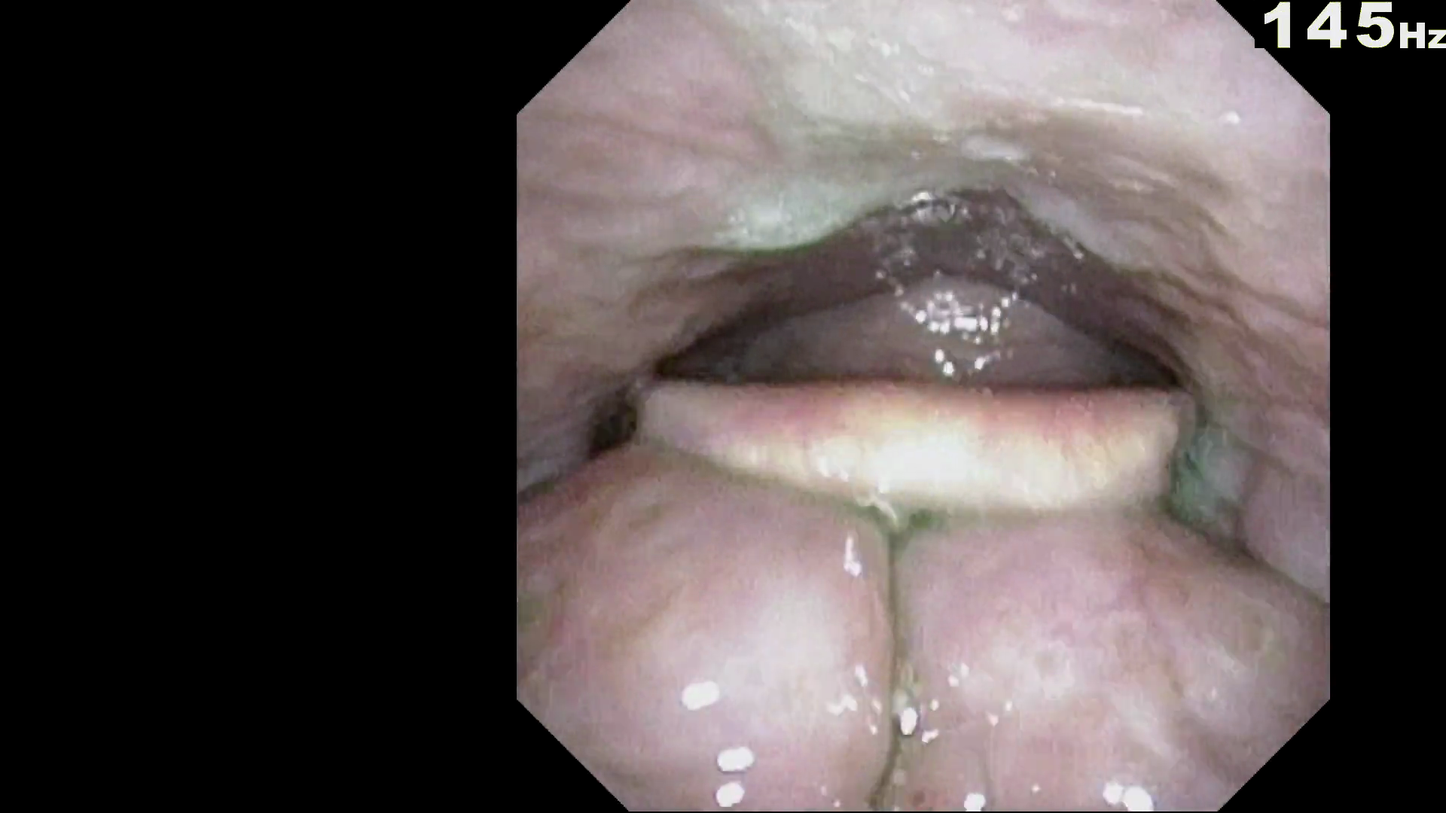epiglottis: (682, 422, 1184, 533)
